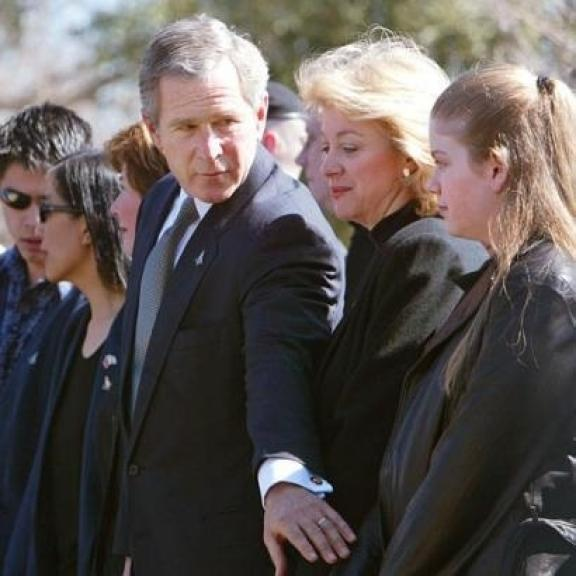face: (139, 55, 269, 206), (312, 81, 424, 222), (428, 88, 528, 242), (32, 161, 101, 287), (3, 146, 60, 267), (102, 141, 145, 265)
